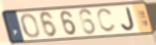6: (39, 11, 59, 39), (79, 8, 97, 36), (60, 10, 78, 37)
C: (96, 7, 117, 34)
J: (120, 6, 136, 32)
O: (20, 12, 41, 39)
